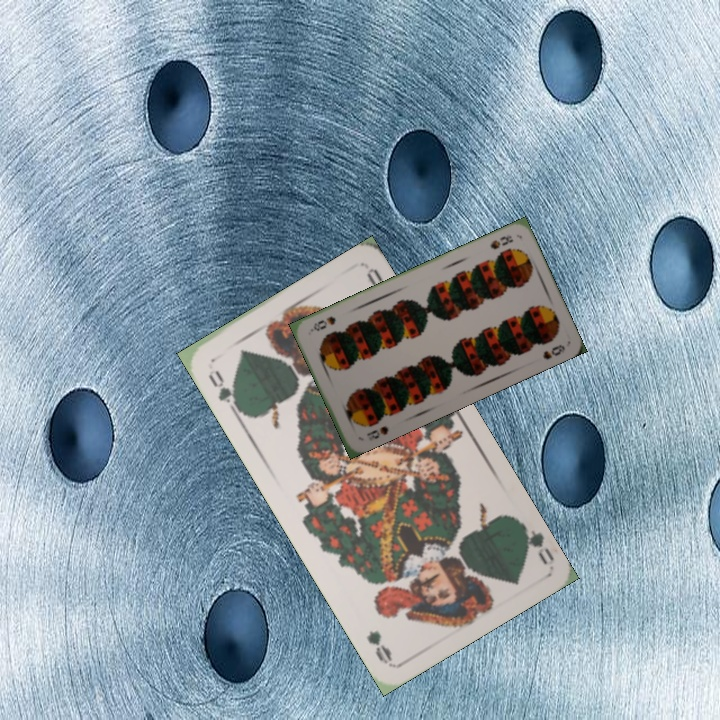GO: (514, 515, 557, 568), (204, 366, 242, 416)
S8: (486, 231, 516, 252), (362, 422, 391, 442)
